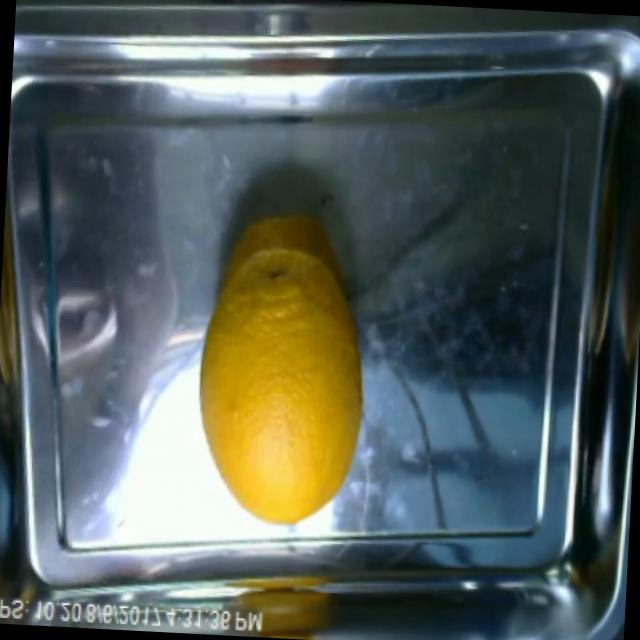Fruit: (188, 332, 370, 541)
